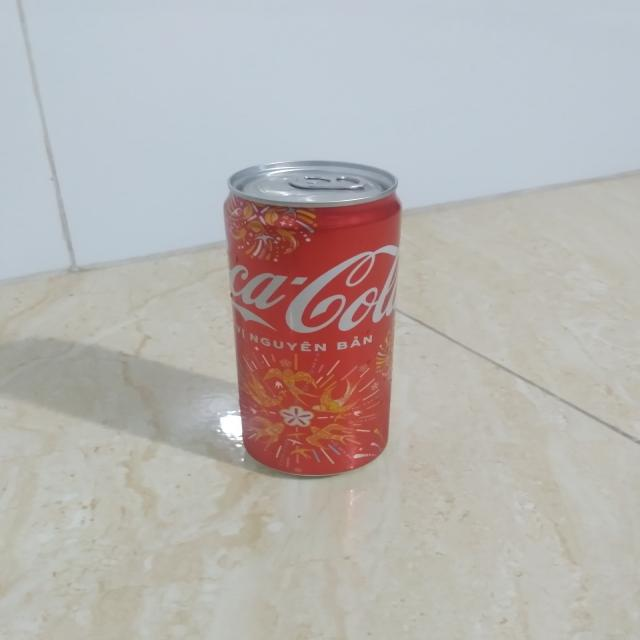cocacola: (208, 141, 421, 495)
